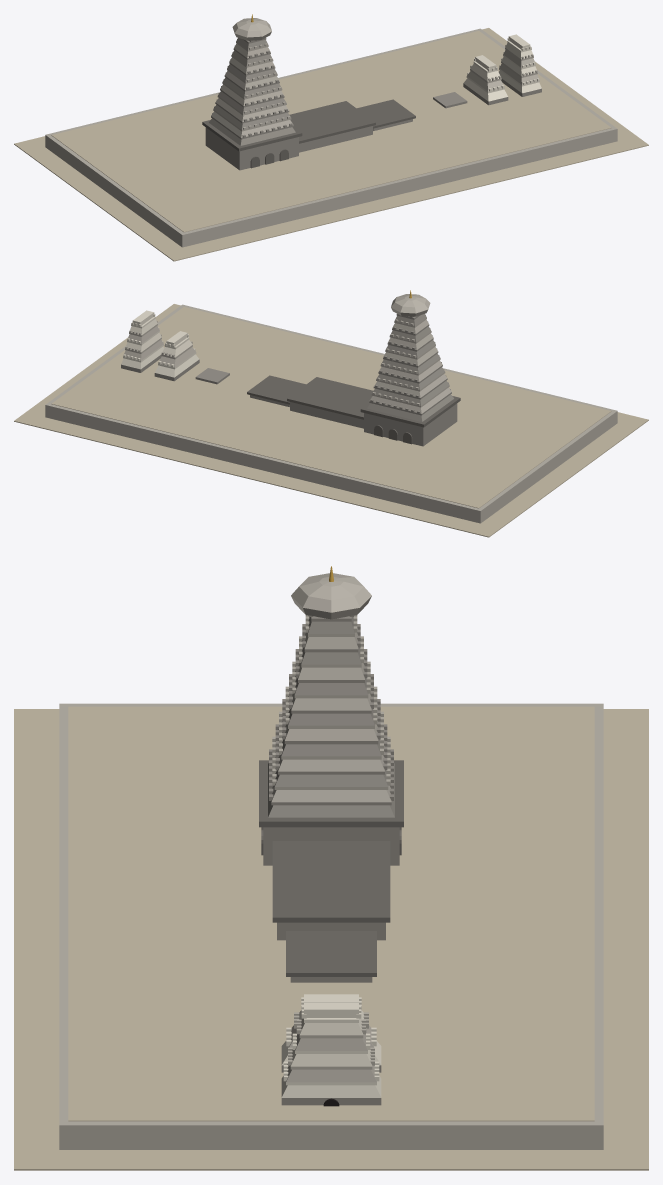
The model's file is brihadeeswara-temple.glb.
3 renders of one model, top to bottom at view 1: azimuth 30°, elevation 25°; view 2: azimuth 150°, elevation 25°; view 3: azimuth 270°, elevation 25°, orthographic. The views are drawn at different scales.
Visible parts, largest first — view 1: ground, granite_l, granite, granite_d, stucco; view 2: ground, granite_l, granite, granite_d, stucco; view 3: ground, granite_l, granite_d, granite, stucco.
Boxes of the visible parts, left/top/right/bottom form: ground: left=14, top=28, right=648, bottom=261; granite_l: left=45, top=18, right=617, bottom=247; granite: left=205, top=38, right=541, bottom=170; granite_d: left=202, top=40, right=415, bottom=168; stucco: left=463, top=34, right=541, bottom=101; ground: left=14, top=304, right=648, bottom=537; granite_l: left=45, top=294, right=617, bottom=523; granite: left=121, top=314, right=457, bottom=446; granite_d: left=247, top=316, right=460, bottom=444; stucco: left=121, top=310, right=199, bottom=377; ground: left=14, top=706, right=648, bottom=1170; granite_l: left=59, top=573, right=603, bottom=1149; granite_d: left=259, top=617, right=403, bottom=976; granite: left=263, top=615, right=399, bottom=1105; stucco: left=281, top=994, right=381, bottom=1097.
Bounding box in the file's own units: 240 × 72.4 × 140.
